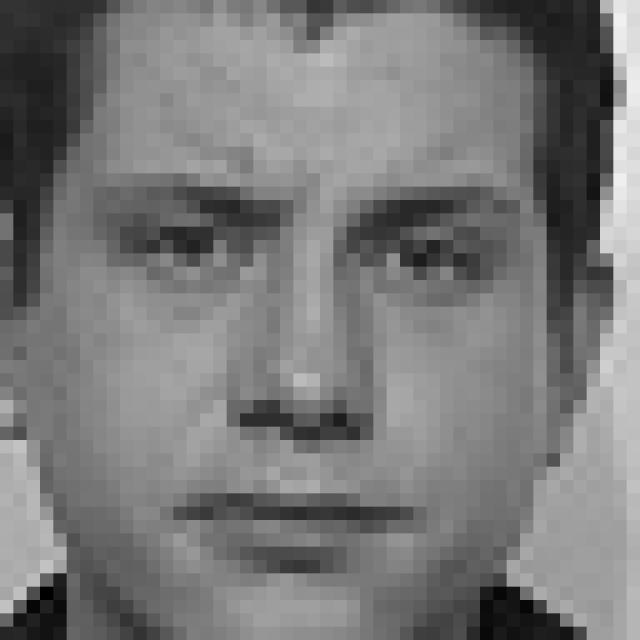neutral: (75, 158, 528, 581)
